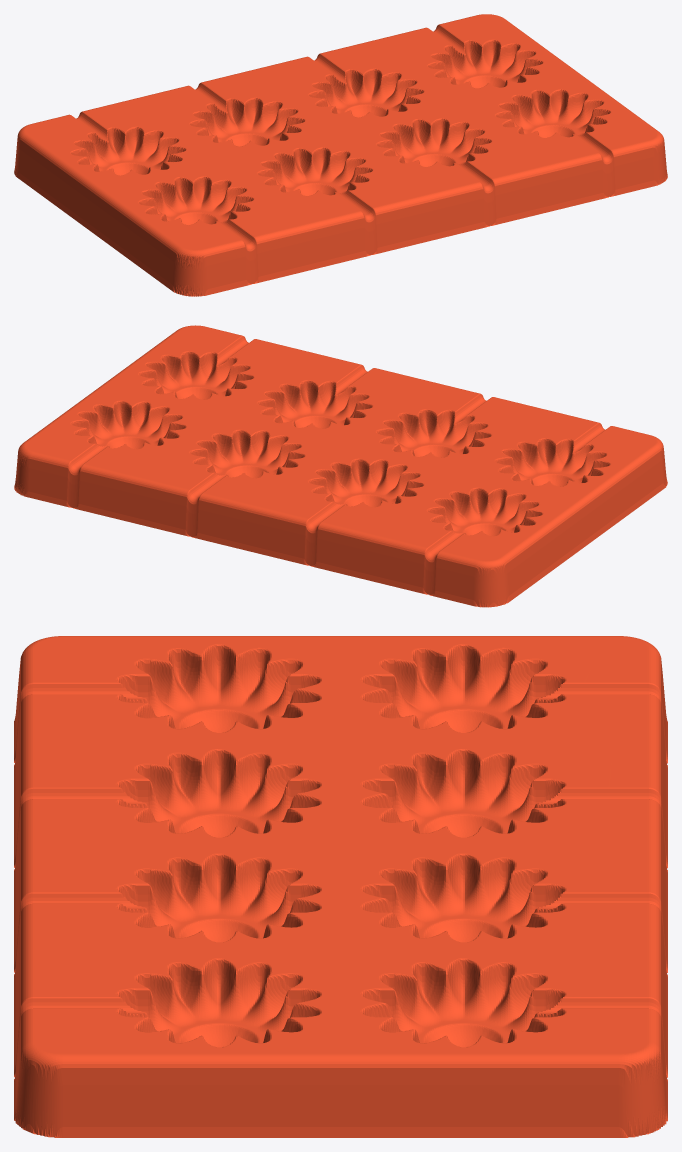
The model's file is mold.glb.
3 renders of one model, top to bottom at view 1: azimuth 30°, elevation 25°; view 2: azimuth 150°, elevation 25°; view 3: azimuth 270°, elevation 25°, orthographic. The views are drawn at different scales.
Parts seen in each view (by area): view 1: geometry_0; view 2: geometry_0; view 3: geometry_0.
Part boxes in pixels (x1=…): geometry_0: x1=14, y1=14, x2=667, y2=296; geometry_0: x1=14, y1=325, x2=667, y2=607; geometry_0: x1=14, y1=636, x2=667, y2=1137.
Size of the model in its own units: 0.1907 by 0.0155 by 0.1216.
